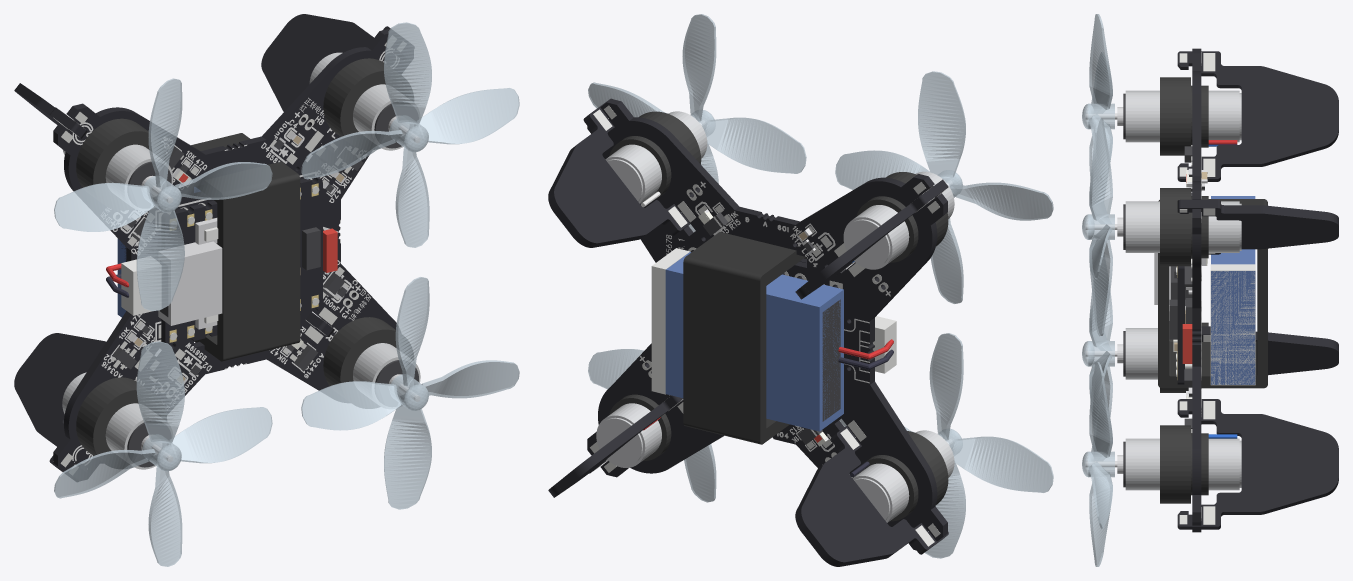
The model's file is e1_nano_full.glb.
The picture shows the model from 3 angles, left to right: view 1: azimuth 30°, elevation 25°; view 2: azimuth 150°, elevation 25°; view 3: azimuth 270°, elevation 25°; orthographic projection. The views are drawn at different scales.
Visible parts, largest first — view 1: base_link__pcb, base_link__velcro, base_link__rubber, rotor_front_right__prop, rotor_rear_right__prop, rotor_rear_left__prop, rotor_front_left__prop, base_link__ic, base_link__motor, base_link__metal, base_link__silk, base_link__pad (+2 smaller); view 2: base_link__pcb, base_link__velcro, base_link__battery, rotor_rear_left__prop, base_link__motor, rotor_rear_right__prop, rotor_front_left__prop, base_link__rubber, base_link__white, base_link__pad, rotor_front_right__prop, base_link__ic (+1 smaller); view 3: base_link__pcb, base_link__motor, base_link__rubber, base_link__battery, base_link__velcro, rotor_front_left__prop, rotor_front_right__prop, base_link__white, rotor_rear_left__prop, rotor_rear_right__prop, base_link__ic, base_link__pad (+2 smaller).
Boxes of the visible parts, x1,y1,x2,y2 form: base_link__pcb: (14, 14, 414, 481); base_link__velcro: (191, 133, 300, 361); base_link__rubber: (76, 58, 413, 468); rotor_front_right__prop: (301, 277, 519, 509); rotor_rear_right__prop: (54, 341, 272, 566); rotor_rear_left__prop: (54, 78, 272, 311); rotor_front_left__prop: (301, 22, 519, 247); base_link__ic: (113, 101, 418, 467); base_link__motor: (62, 52, 420, 469); base_link__metal: (125, 116, 408, 454); base_link__silk: (72, 49, 399, 465); base_link__pad: (53, 35, 406, 474); base_link__pcb: (548, 98, 948, 566); base_link__velcro: (683, 232, 806, 444); base_link__battery: (665, 252, 843, 431); rotor_rear_left__prop: (835, 71, 1053, 303); base_link__motor: (596, 111, 954, 522); rotor_rear_right__prop: (839, 333, 1053, 558); rotor_front_left__prop: (588, 14, 806, 232); base_link__rubber: (609, 111, 948, 521); base_link__white: (651, 248, 896, 394); base_link__pad: (590, 105, 946, 546); rotor_front_right__prop: (588, 349, 716, 502); base_link__ic: (703, 212, 840, 444); base_link__pcb: (1177, 48, 1338, 532); base_link__motor: (1125, 90, 1241, 490); base_link__rubber: (1160, 77, 1208, 503); base_link__battery: (1211, 196, 1255, 384); base_link__velcro: (1158, 199, 1267, 388); rotor_front_left__prop: (1082, 118, 1114, 336); rotor_front_right__prop: (1082, 362, 1114, 566); base_link__white: (1169, 264, 1255, 385); rotor_rear_left__prop: (1082, 14, 1114, 197); rotor_rear_right__prop: (1082, 256, 1114, 426); base_link__ic: (1123, 93, 1204, 487); base_link__pad: (1176, 52, 1215, 524).
Bounding box in the file's own units: 0.0664 × 0.0664 × 0.0347.
